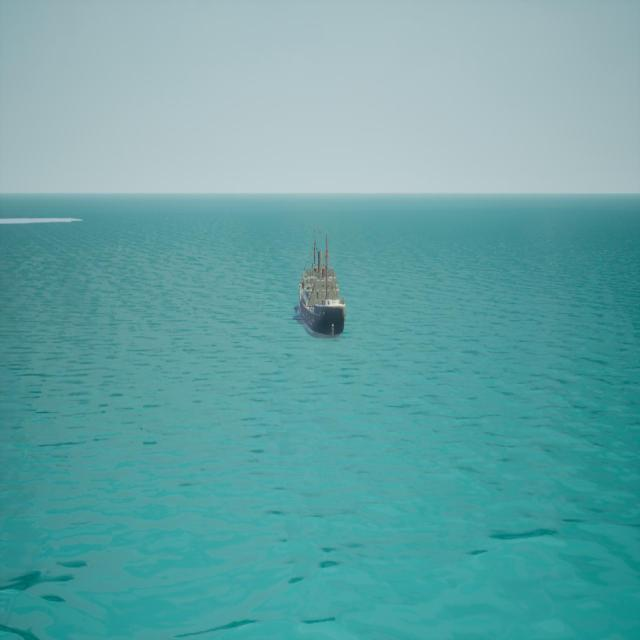fishing ship: (298, 230, 347, 340)
